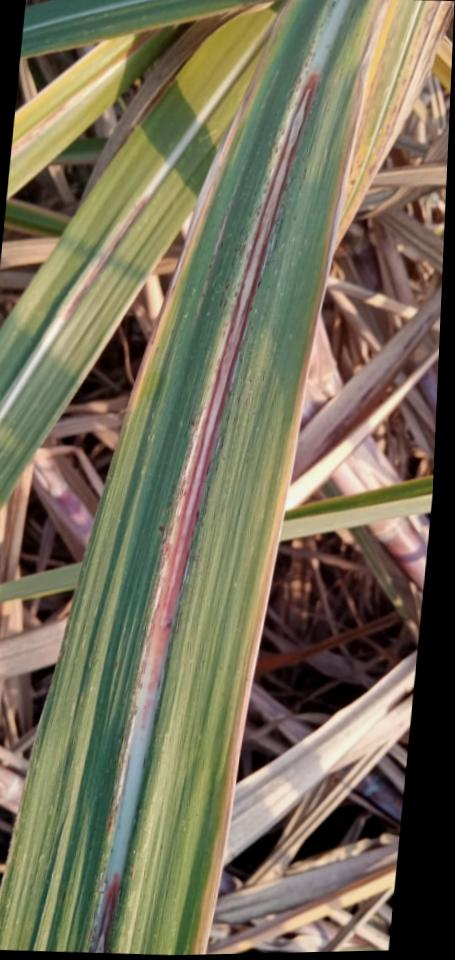RedRot: (138, 73, 315, 741), (63, 195, 147, 320), (94, 872, 117, 952)
